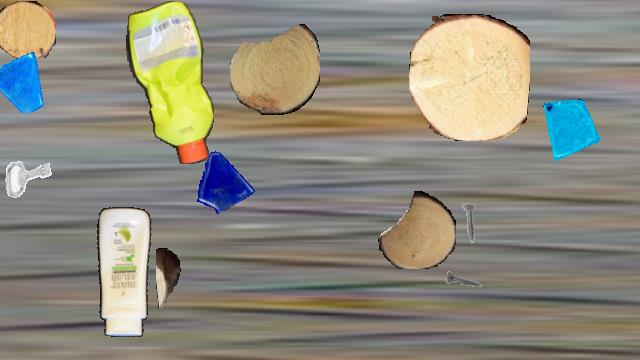glass: (191, 148, 257, 214), (540, 99, 604, 163), (0, 50, 47, 112)
metal: (0, 148, 57, 208), (445, 258, 487, 300), (449, 202, 491, 244)
plastic: (125, 1, 215, 163), (90, 207, 154, 337)
wood: (409, 14, 529, 140), (230, 23, 320, 115), (378, 191, 456, 269), (0, 1, 55, 59), (156, 248, 180, 308)
